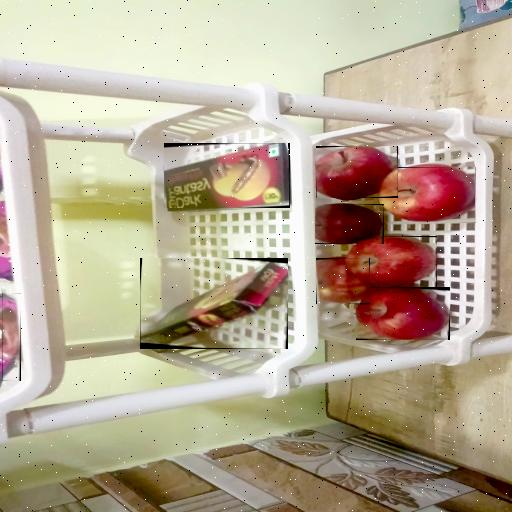Apple: (378, 167, 476, 223), (356, 287, 450, 340), (348, 236, 437, 288), (316, 146, 398, 198), (315, 204, 384, 244), (316, 258, 370, 304)
Choco Fills: (140, 258, 288, 349), (164, 143, 290, 208)
Choco Pie: (2, 293, 21, 381)
